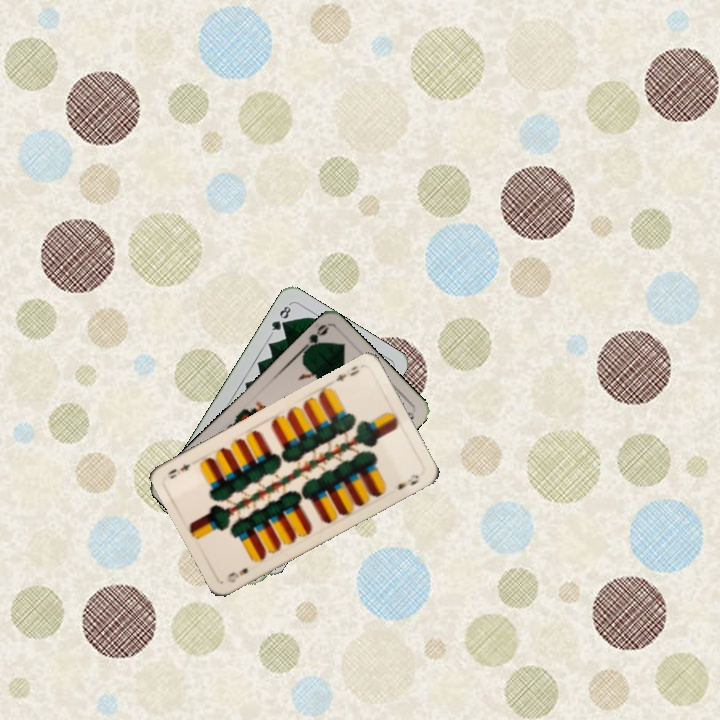E9: (332, 361, 362, 384), (223, 564, 251, 585)
G8: (267, 300, 293, 337)
GO: (297, 320, 331, 357)
